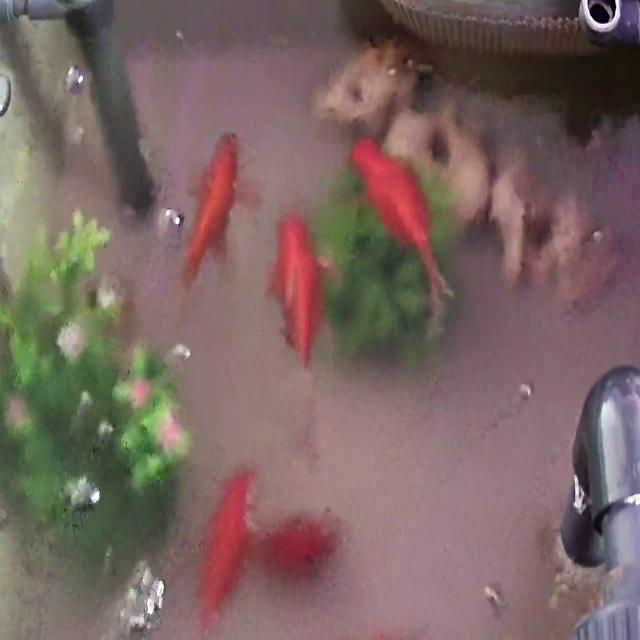fish: (349, 136, 447, 318), (182, 130, 250, 290), (197, 464, 257, 629), (276, 213, 332, 369), (260, 516, 338, 576)
